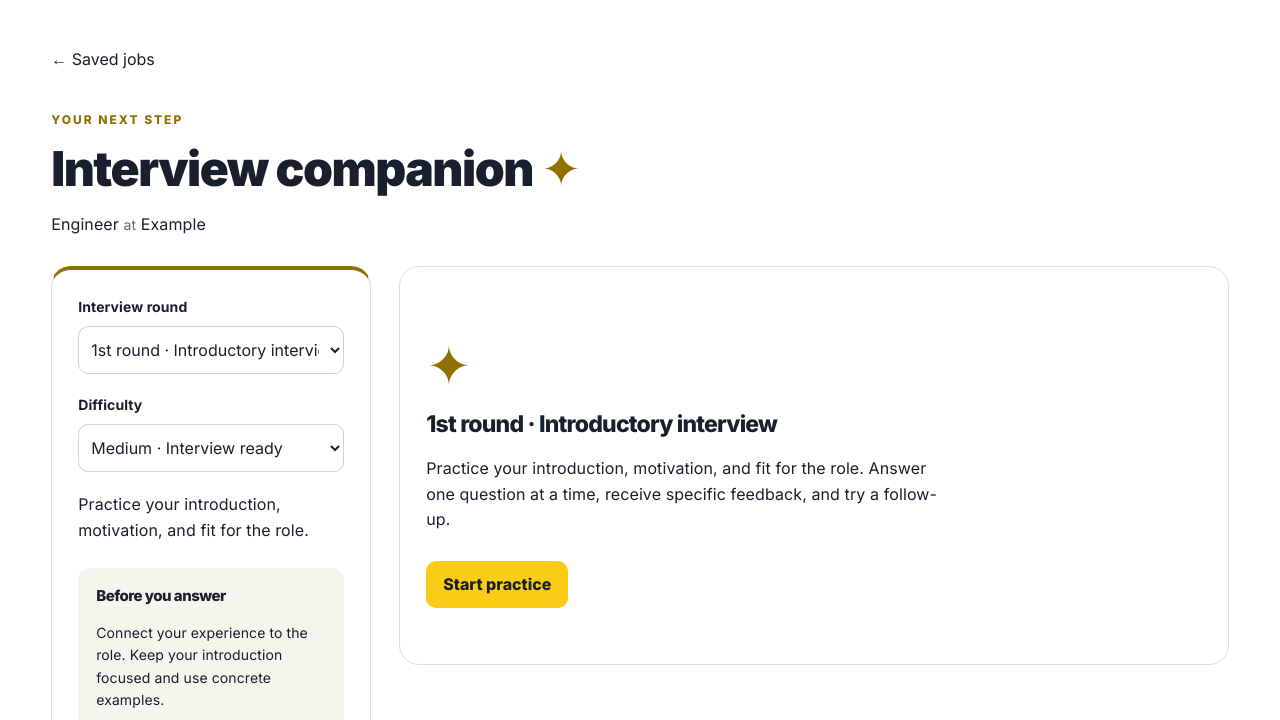
Test: interview companion › shows a short hint and direct model answer without grading or changing the draft
Step 1. Click the button "Start practice" → (497, 585), box [426, 561, 568, 608]
(page scrolled)
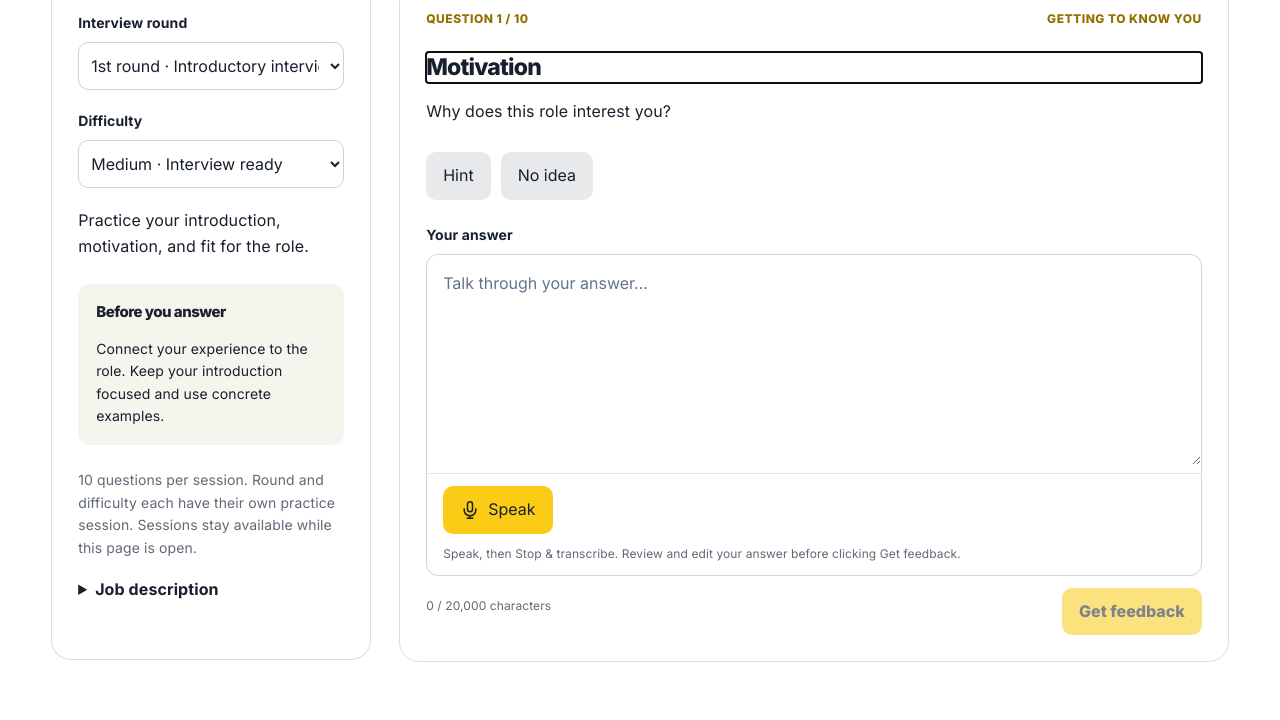
Step 2. Type "My draft" into the text box labelled "Your answer" → (814, 360), box [427, 255, 1201, 465]
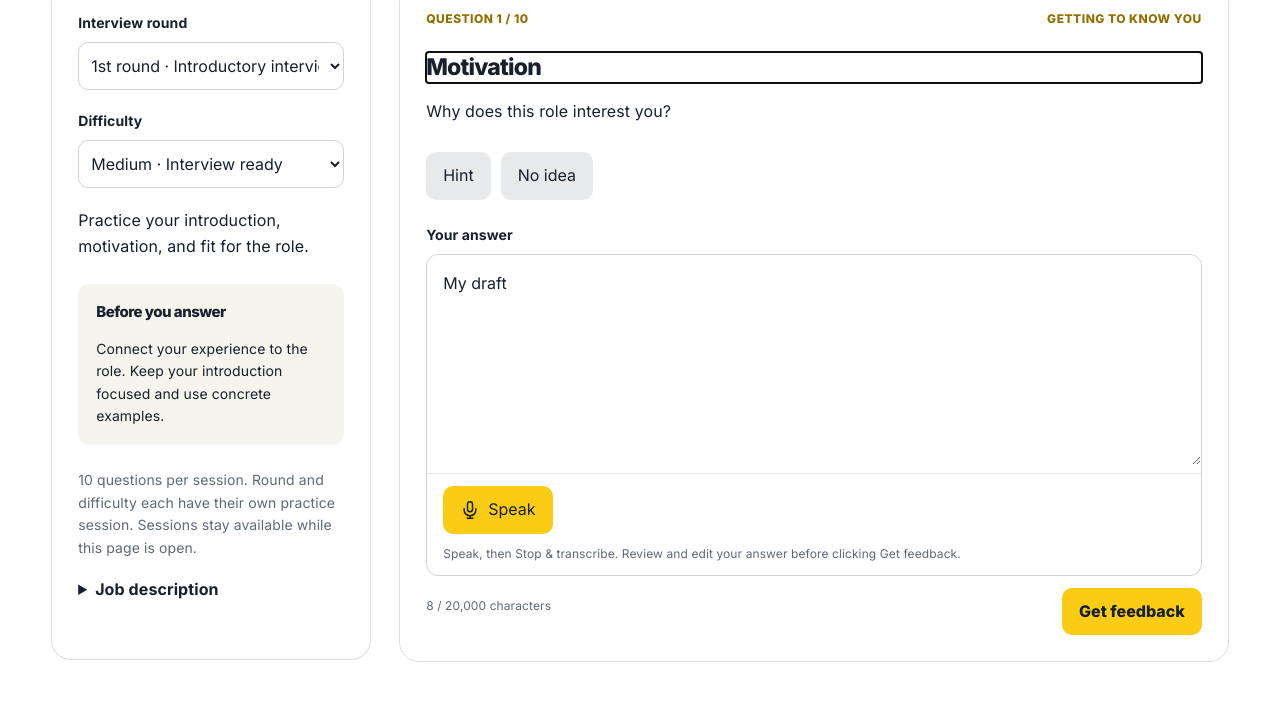
Step 3. Click the button "Hint" → (458, 176), box [426, 152, 491, 200]
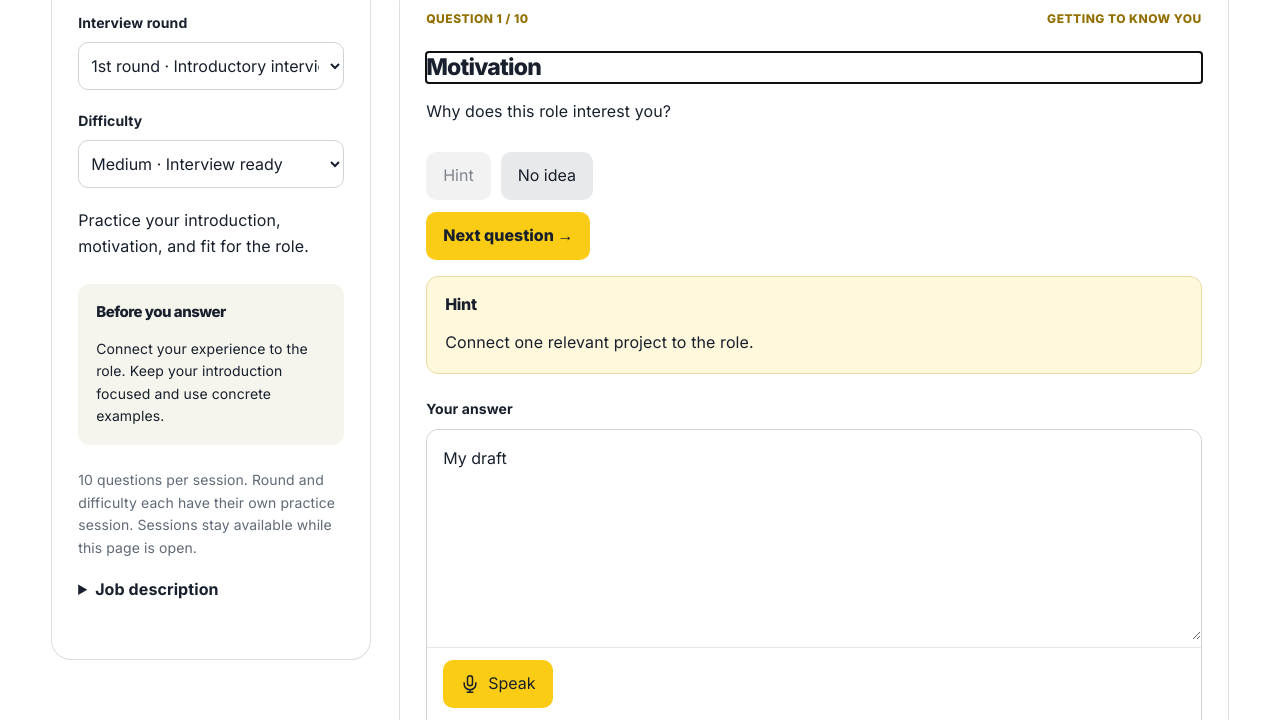
Check: the text "Connect one relevant project to the role." is shown, box [445, 332, 754, 352]
Step 4. Click the button "No idea" → (547, 176), box [501, 152, 593, 200]
(page scrolled)
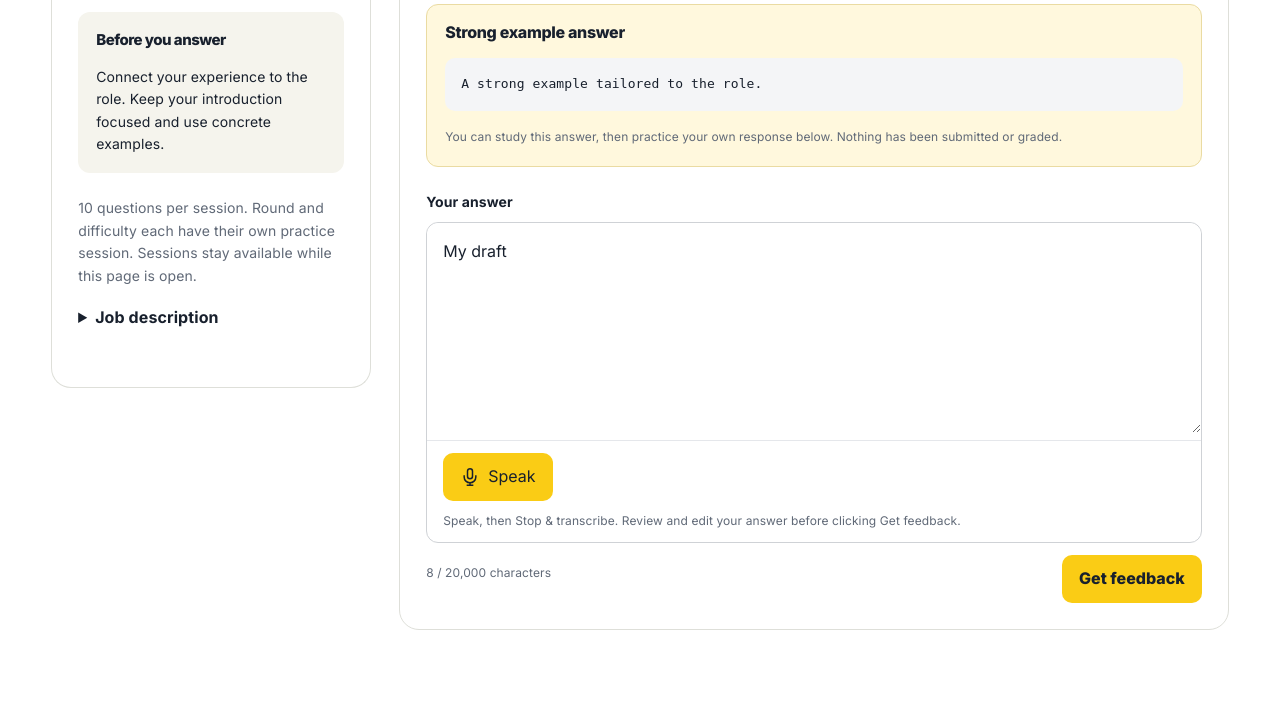
Check: the heading "Your feedback" is not shown
Check: the text "A strong example tailored to the role." is shown, box [445, 58, 1183, 111]
Step 5. Click the button "Get feedback" → (1132, 579), box [1062, 555, 1202, 602]
(page scrolled)
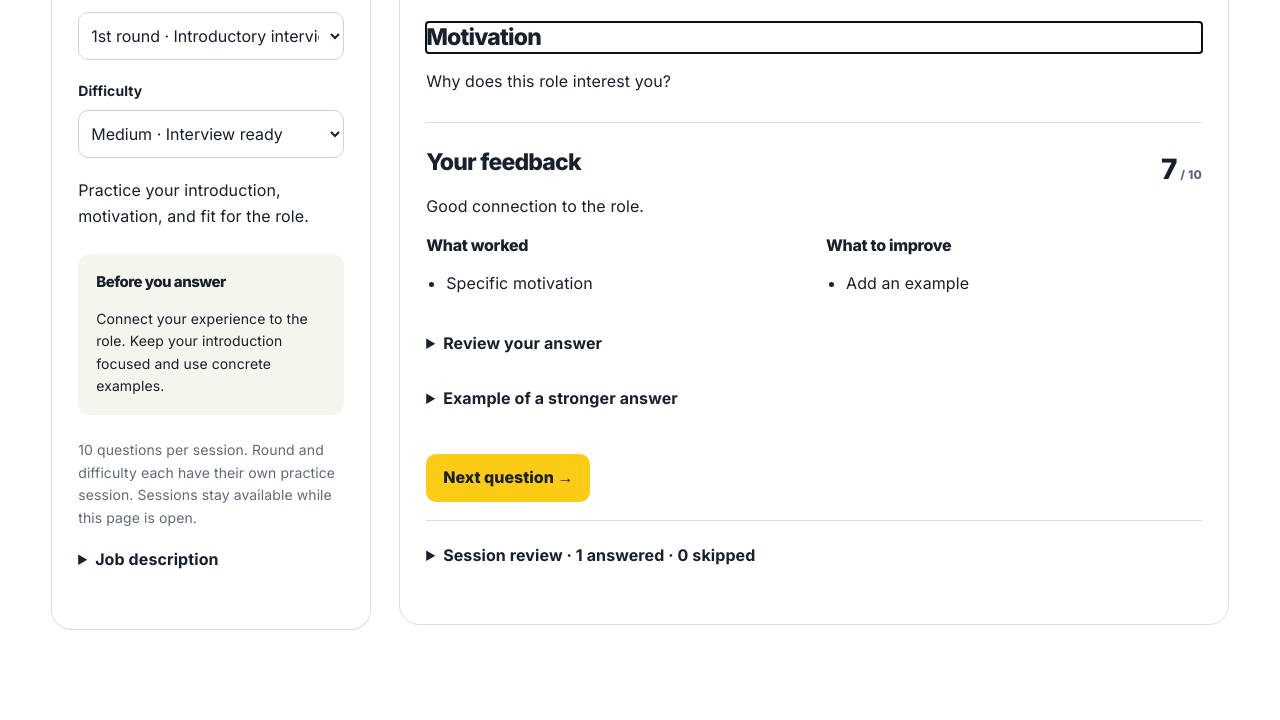
Check: the heading "Your feedback" is shown, box [426, 147, 581, 178]
Step 6. Click the button "Next question →" → (508, 478), box [426, 454, 590, 502]
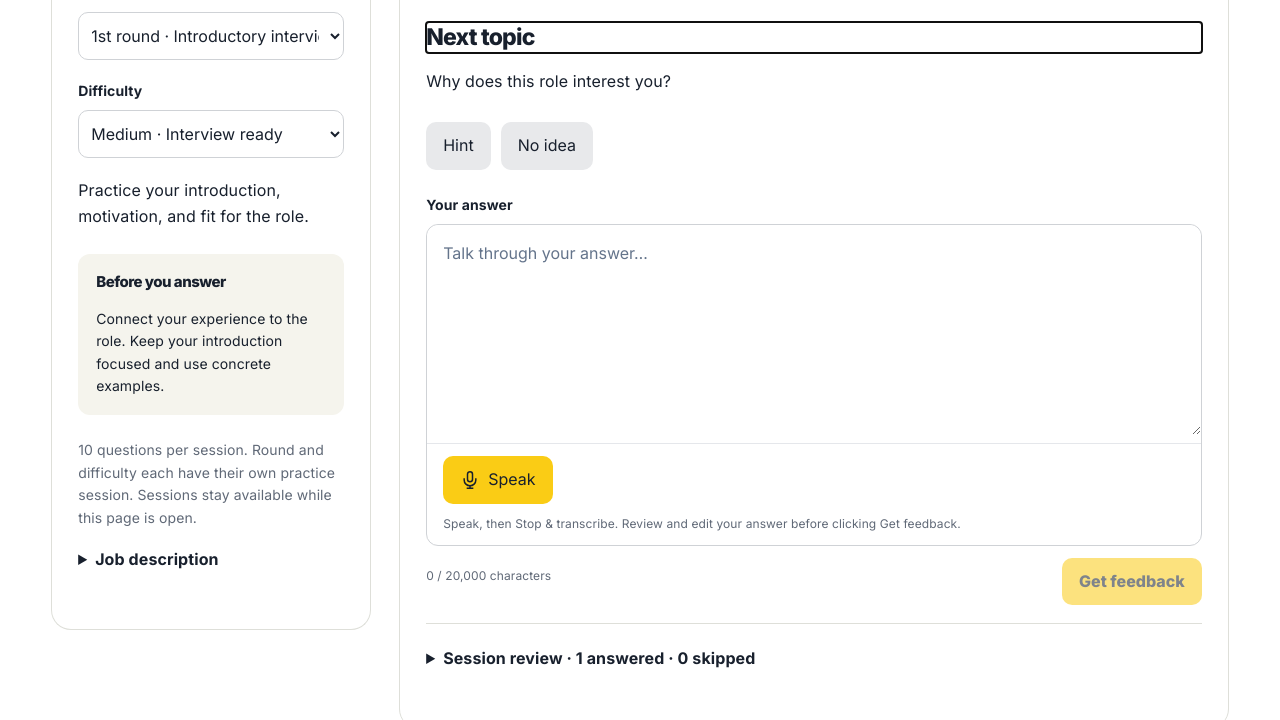
Check: the text "A strong example tailored to the role." is not shown
Check: the button "Hint" is enabled, box [426, 122, 491, 170]
